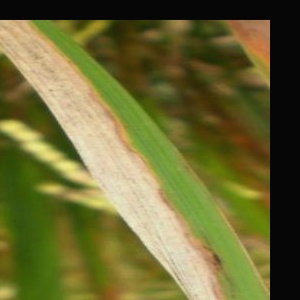Leaf_Blast: (123, 131, 252, 300)
